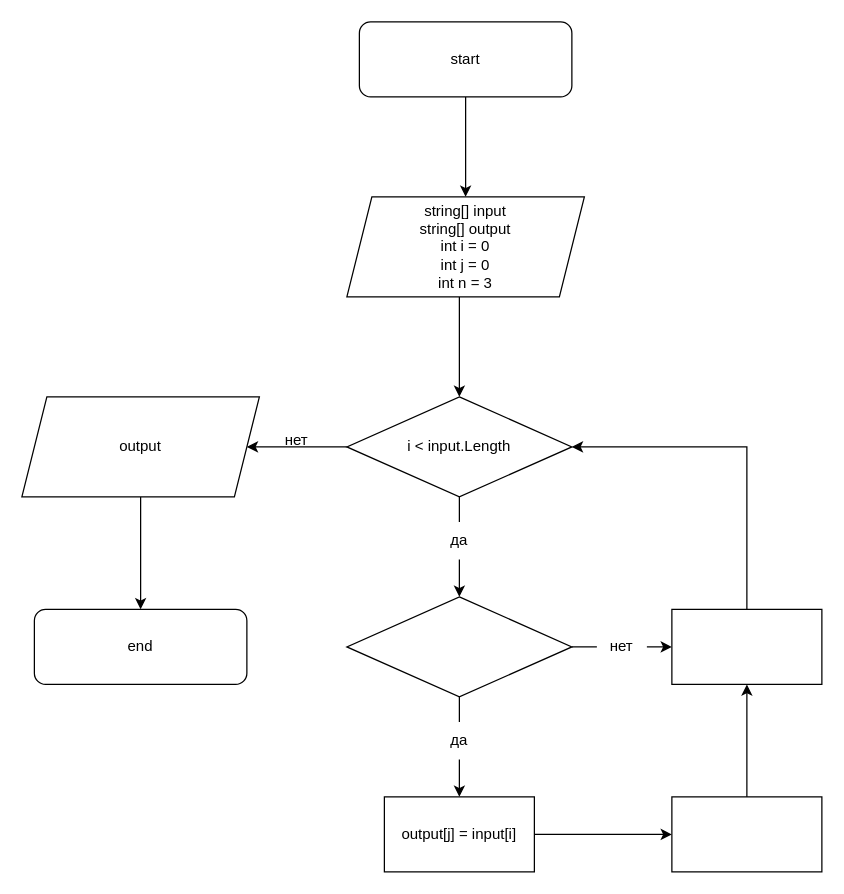
The diagram is 844 pixels wide and 894 high, and some of its shapes have lost their labels. The centre of each missing label's shape, as x and y in pixels:
i++: [746,646]
input[i].Lenght<=n: [459,646]
j++: [746,834]
